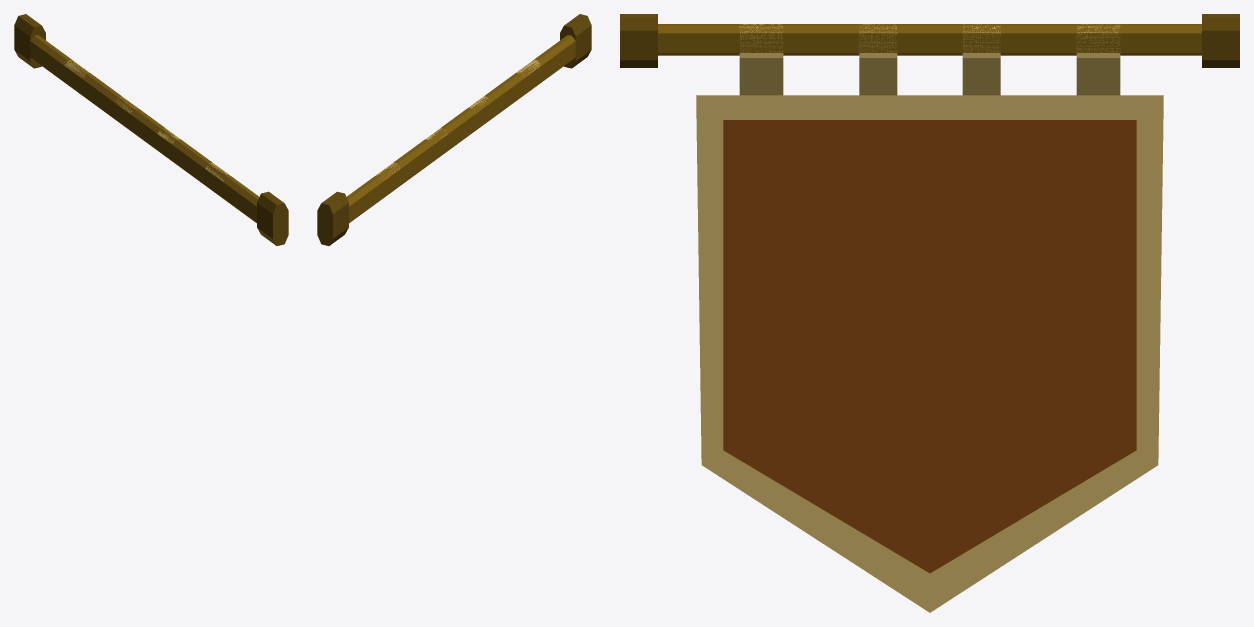
3 views of the same model, side by side, from view 1: azimuth 30°, elevation 25°; view 2: azimuth 150°, elevation 25°; view 3: azimuth 270°, elevation 25° (orthographic). The views are drawn at different scales.
Bounding box in the file's own units: 4 × 122 × 114.
1 material, 1 textured.
